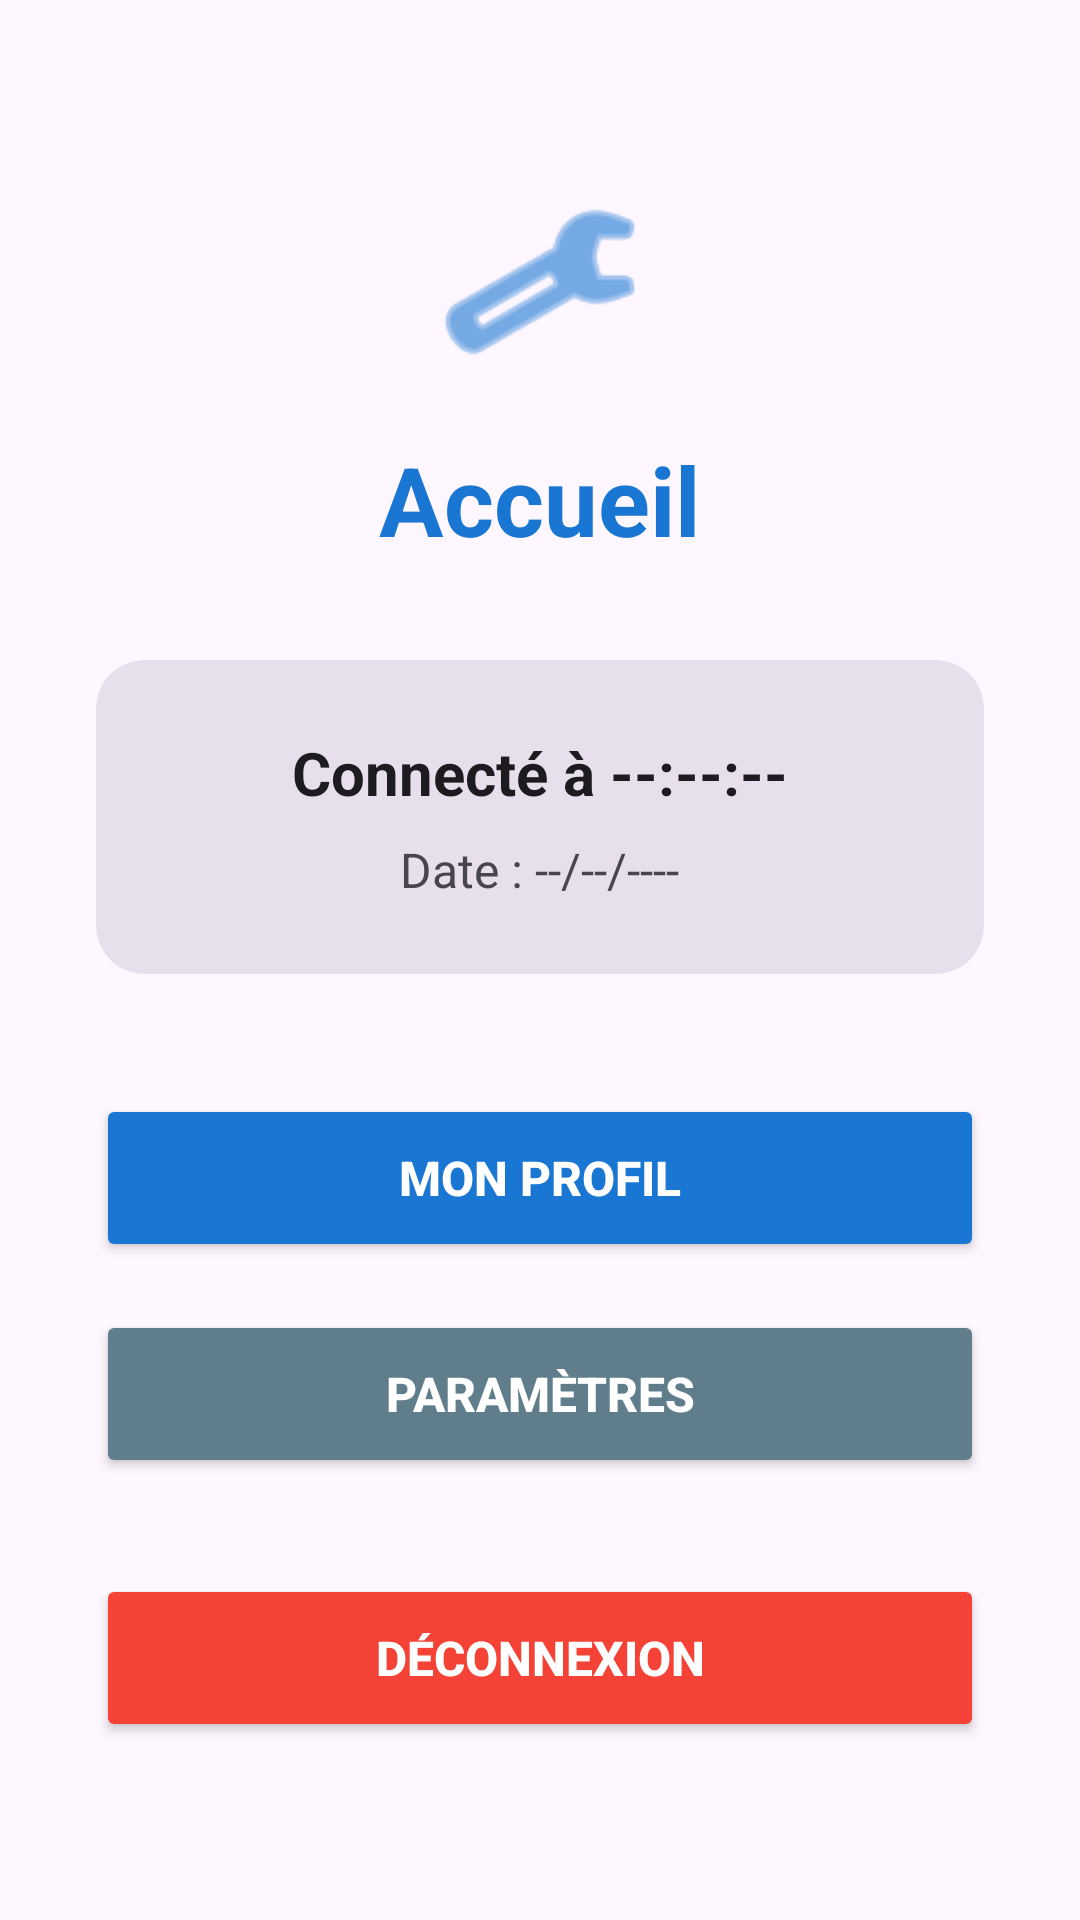

Icon bounding boxes for this 1080w x 1920h phone screenshot, format (x1, y1, x2, y2):
preferences: (445, 210, 635, 354)
